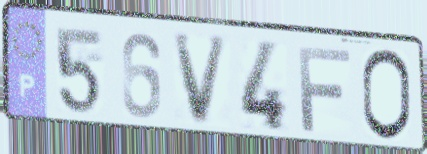4: (238, 39, 292, 134)
5: (52, 24, 106, 116)
6: (119, 30, 163, 121)
F: (295, 44, 353, 135)
O: (360, 47, 414, 145)
V: (171, 33, 232, 130)
